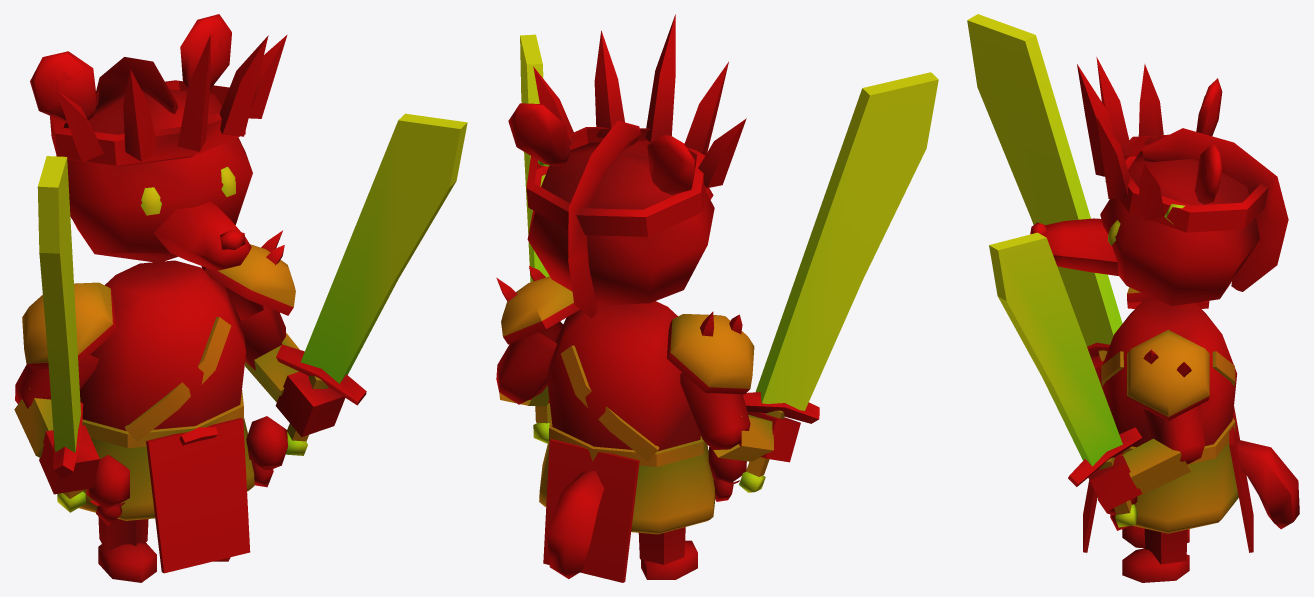
Rendered from GnollLeader_LOD1.glb.
3 views of the same model, side by side, from view 1: azimuth 30°, elevation 25°; view 2: azimuth 150°, elevation 25°; view 3: azimuth 270°, elevation 25° (orthographic). The views are drawn at different scales.
Parts seen in each view (by area): view 1: GnollLeader_LOD1; view 2: GnollLeader_LOD1; view 3: GnollLeader_LOD1.
Part boxes in pixels (x1=…): GnollLeader_LOD1: x1=14, y1=14, x2=467, y2=582; GnollLeader_LOD1: x1=496, y1=14, x2=938, y2=582; GnollLeader_LOD1: x1=967, y1=14, x2=1299, y2=582.
Bounding box in the file's own units: 0.9205 × 1.12 × 0.6789.
